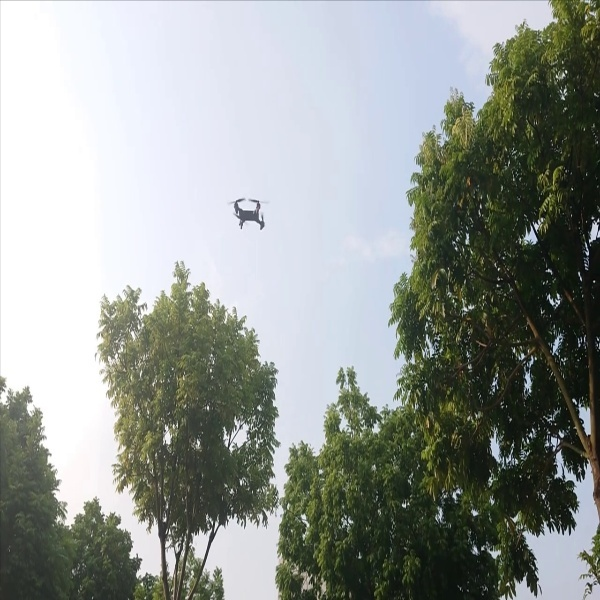drone: (222, 187, 281, 239)
